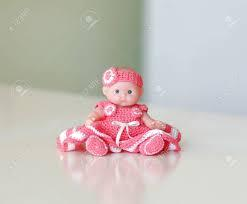doll: (56, 67, 180, 157)
